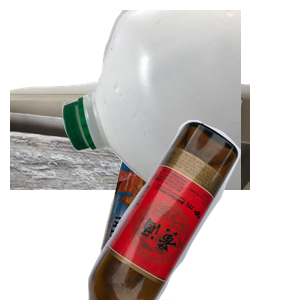glass: (85, 120, 300, 300)
paper: (10, 77, 250, 257)
plastic: (60, 10, 300, 190)
trash: (97, 152, 248, 300)
